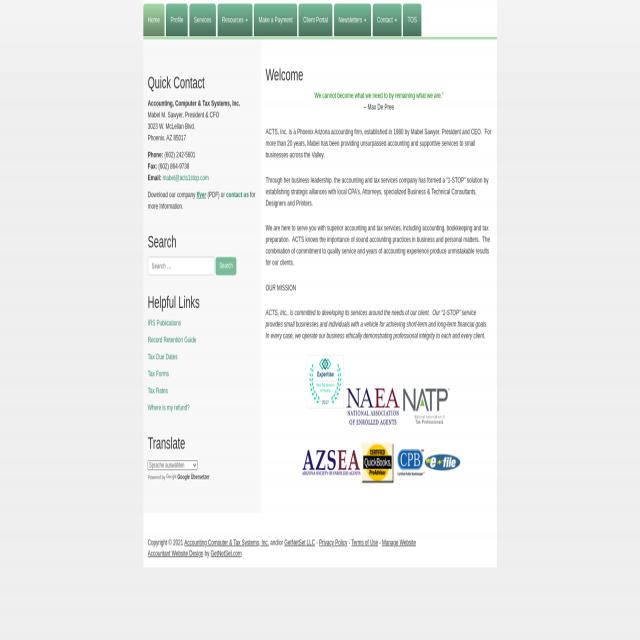button: (345, 387, 401, 430), (306, 358, 344, 412), (403, 390, 450, 428), (302, 453, 360, 478), (254, 6, 297, 39), (362, 445, 394, 486), (334, 6, 371, 39), (218, 6, 252, 39), (298, 6, 332, 38), (372, 6, 402, 39), (190, 6, 216, 39), (166, 4, 188, 37), (398, 452, 424, 478), (144, 4, 164, 37), (403, 6, 421, 39), (424, 457, 461, 473), (216, 257, 237, 275), (166, 476, 178, 484)
field: (148, 256, 215, 274), (148, 460, 198, 470)
